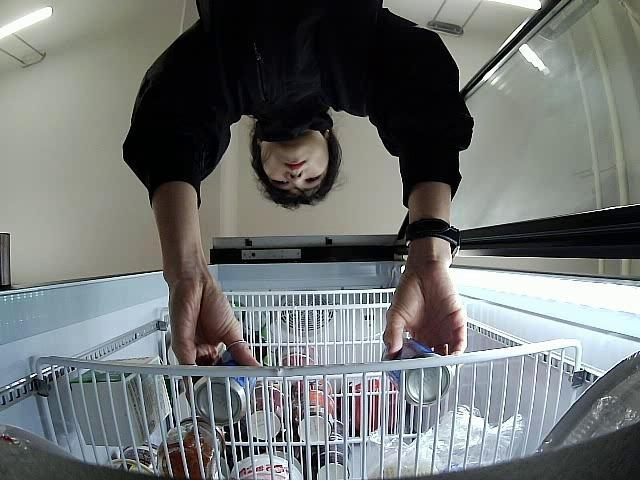15_letsbe: (193, 350, 257, 427), (380, 339, 449, 407)
